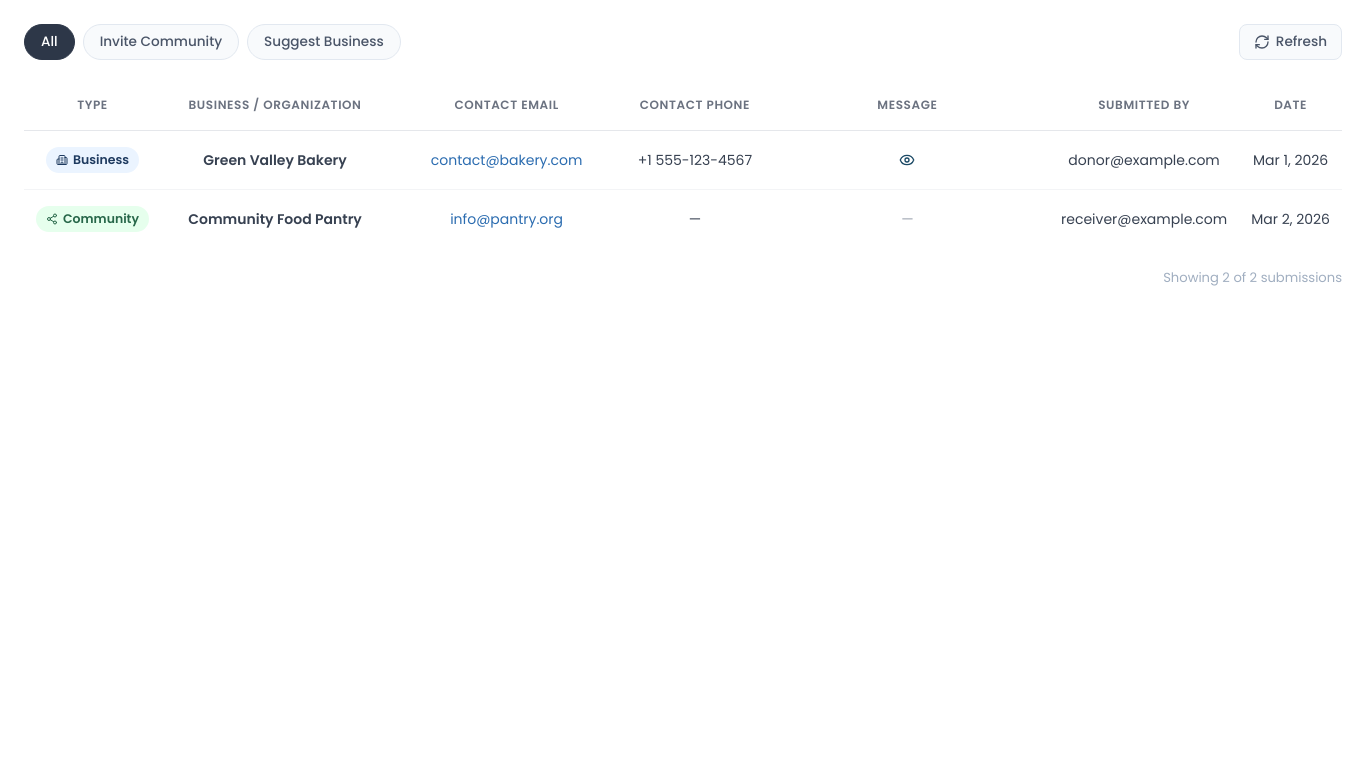
AdminReferrals › opens referral message in a popup when the message icon is clicked
Expected: the table with test id "referrals-table" is shown, [24,80,1342,248]
Click the button named "view message from green valley bakery".
click(907, 160)  # box [894,147,920,173]
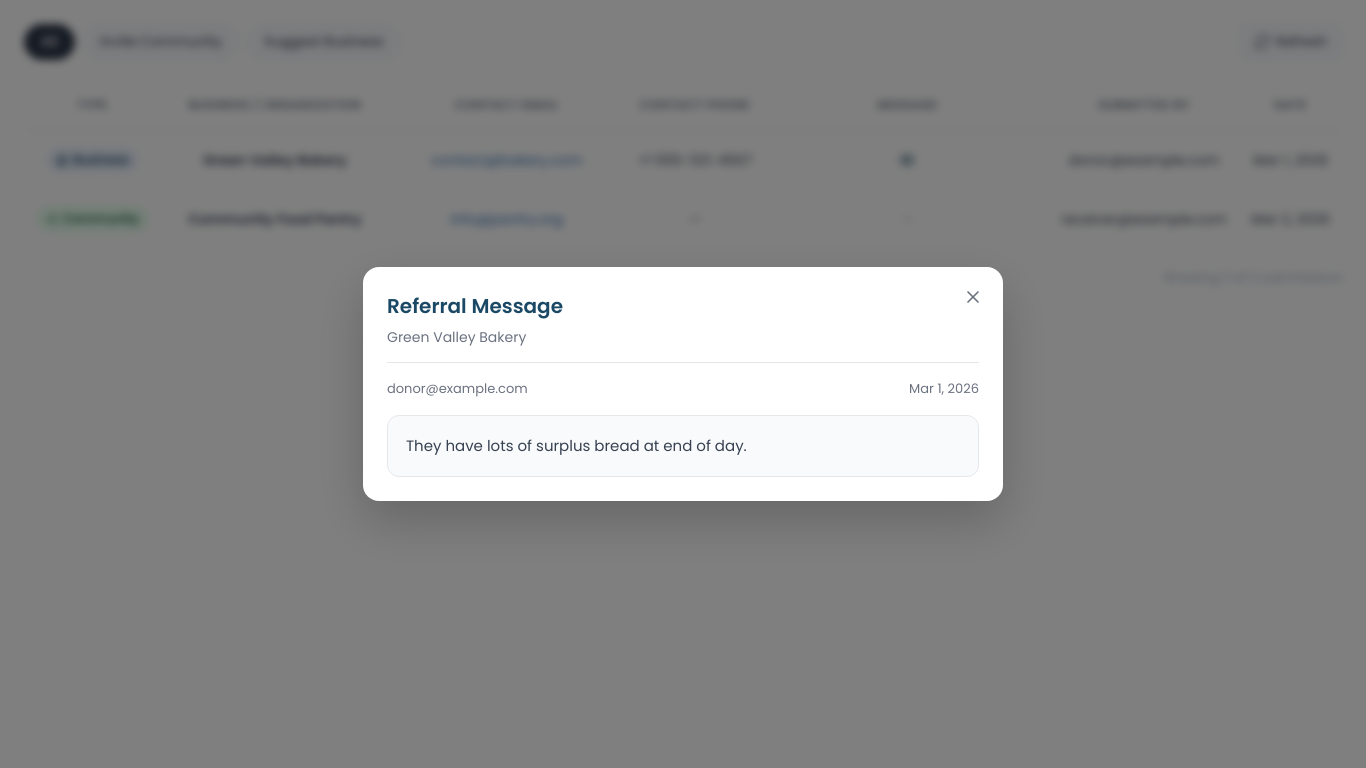
Result: the heading "Referral Message" is shown at [387,292,563,320]
Result: the text "They have lots of surplus bread at end of day." is shown at [387,415,979,477]
Result: the text "donor@example.com" is shown at [387,379,528,399]
